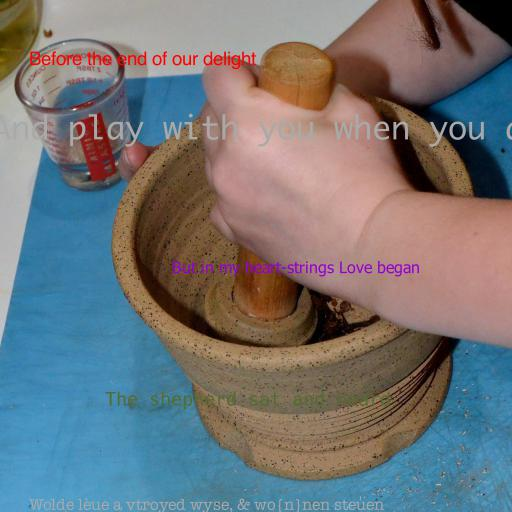American Typewriter: (28, 498, 384, 512)
Helvetica: (28, 51, 256, 70)
Menlo: (105, 391, 391, 410)
Monaco: (0, 113, 512, 147)
Tahoma: (172, 260, 420, 277)
